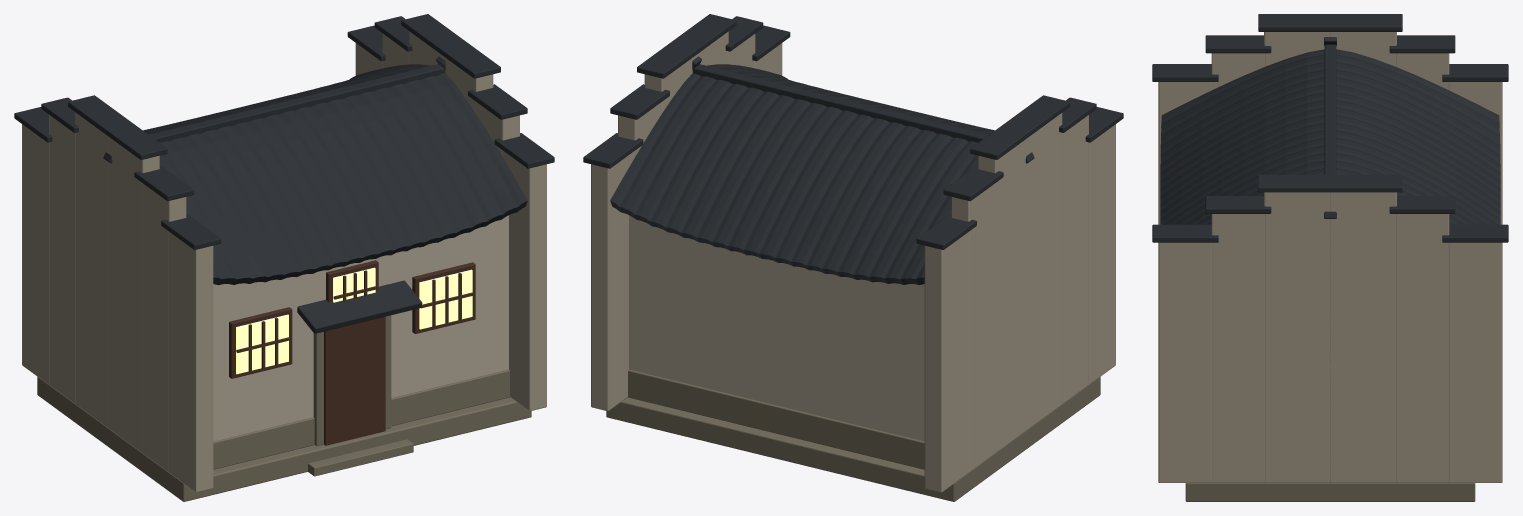
File: house_small.glb
The picture shows the model from 3 angles, left to right: view 1: azimuth 30°, elevation 25°; view 2: azimuth 150°, elevation 25°; view 3: azimuth 270°, elevation 25°; orthographic projection.
Visible parts, largest first — view 1: house_small; view 2: house_small; view 3: house_small.
Part boxes in pixels (bbox=[...]): house_small: bbox=[14, 14, 554, 501]; house_small: bbox=[583, 14, 1123, 501]; house_small: bbox=[1152, 14, 1508, 501].
Size of the model in its own units: 6.88 by 5.87 by 5.96.
